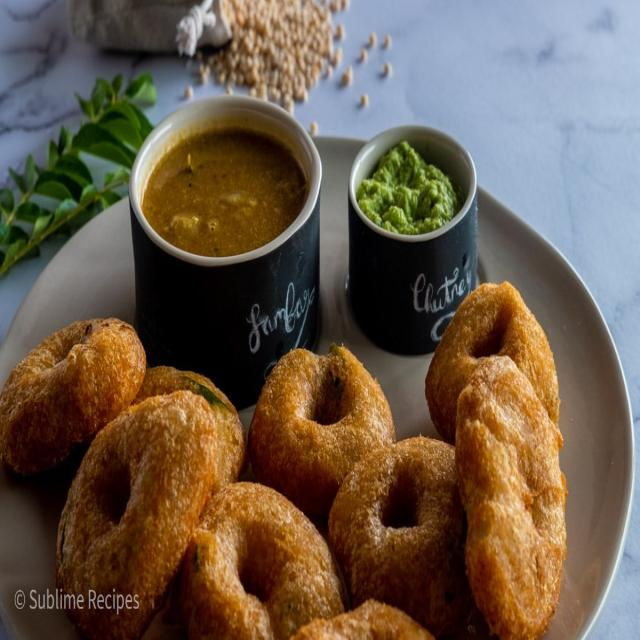MEDU VADA: (50, 394, 213, 639), (452, 372, 566, 639), (328, 439, 480, 632), (188, 480, 341, 639), (253, 357, 391, 517), (2, 322, 149, 468), (422, 280, 557, 428)
